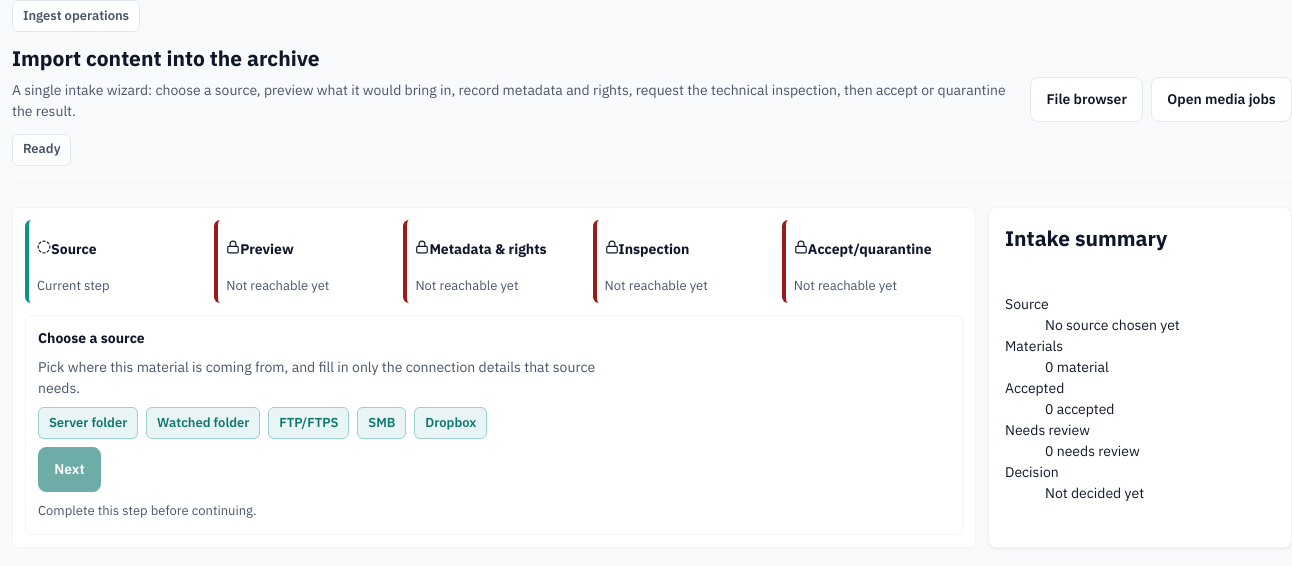
ingest intake wizard › blocks advancing past the source step until a source is chosen and configured
The width and height of the screenshot is (1292, 566).
Expected: the button "Next" is disabled, [38, 447, 101, 492]
Click the button "Server folder". click: (88, 423)
box: [38, 407, 138, 439]
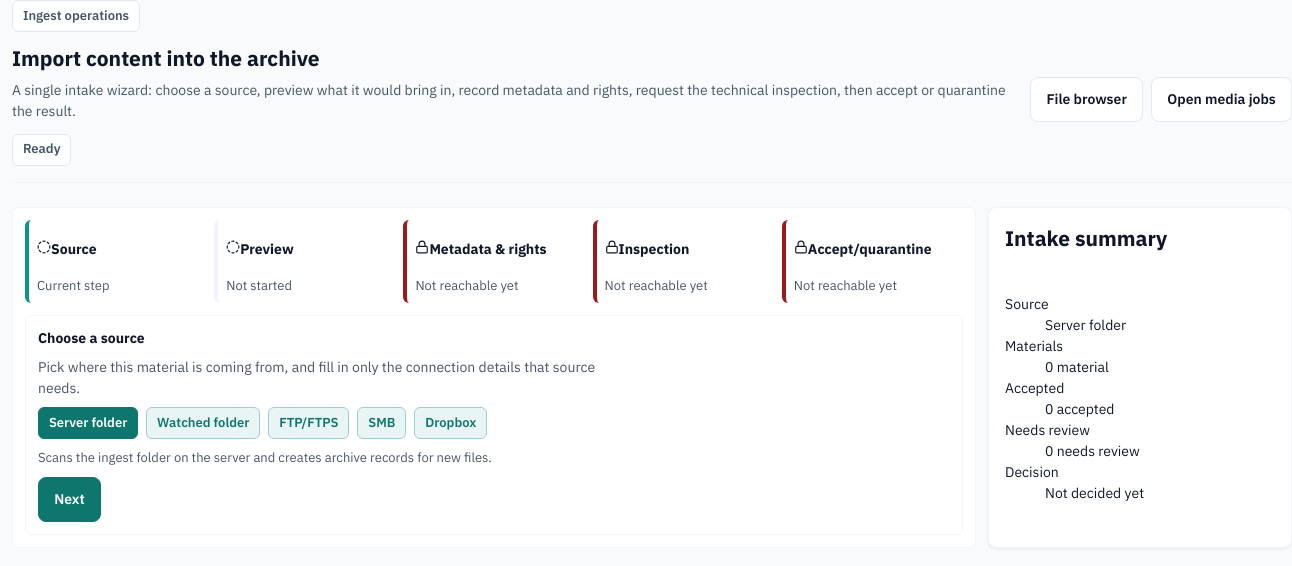
Expected: the button "Next" is enabled, [38, 477, 101, 522]
